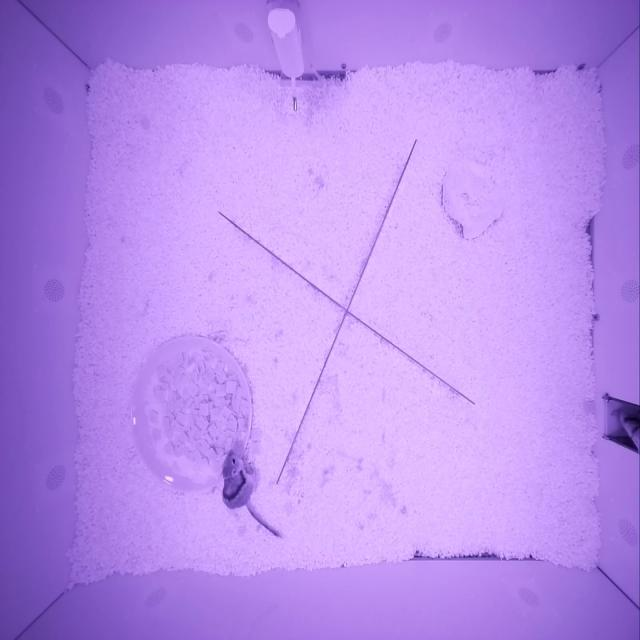adult_front: (222, 454, 254, 508)
pup_h_stripe: (610, 409, 639, 450)
